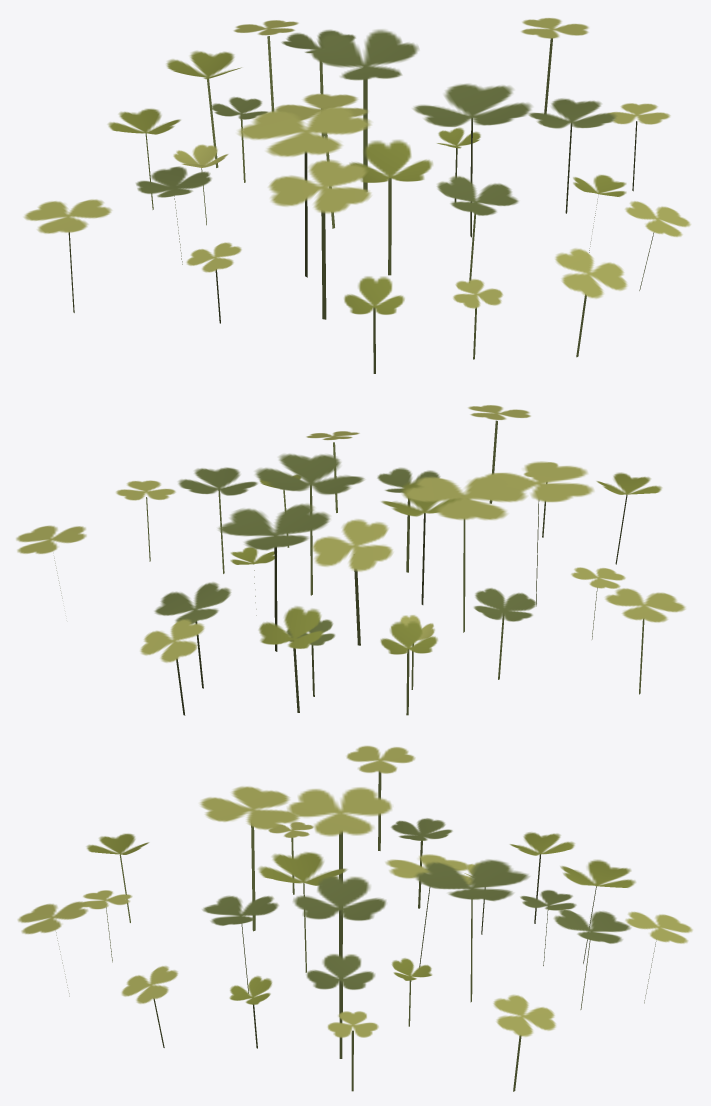
The model's file is Clover_3.glb.
The picture shows the model from 3 angles, top to bottom: view 1: azimuth 30°, elevation 25°; view 2: azimuth 150°, elevation 25°; view 3: azimuth 270°, elevation 25°; orthographic projection. The views are drawn at different scales.
Parts seen in each view (by area): view 1: Clover_3; view 2: Clover_3; view 3: Clover_3.
Boxes of the visible parts, x1=… form: Clover_3: x1=24, y1=18, x2=690, y2=373; Clover_3: x1=16, y1=405, x2=685, y2=715; Clover_3: x1=17, y1=745, x2=692, y2=1091.
Bounding box in the file's own units: 1.39 × 0.3013 × 1.4.
Materials: 1 (1 with a texture image).
